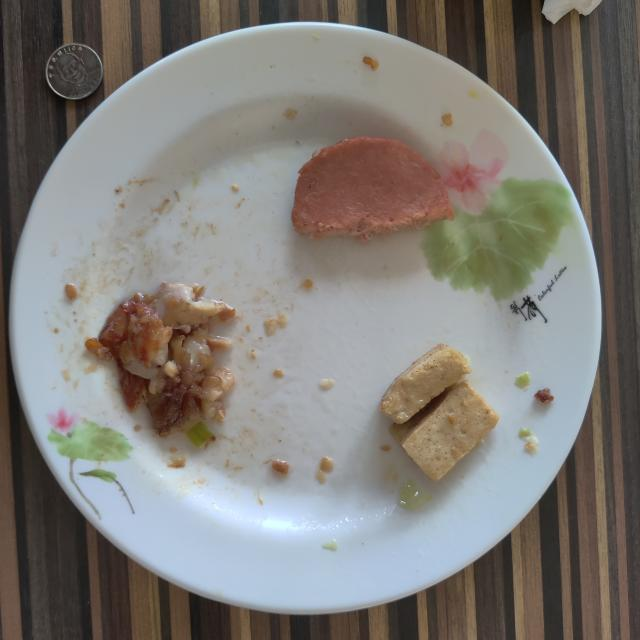Kabayaki sea bream fillet: (85, 282, 235, 436)
Spam: (291, 136, 454, 241)
coin: (45, 42, 102, 100)
creamy tofu -without sauce-: (380, 344, 499, 481)
